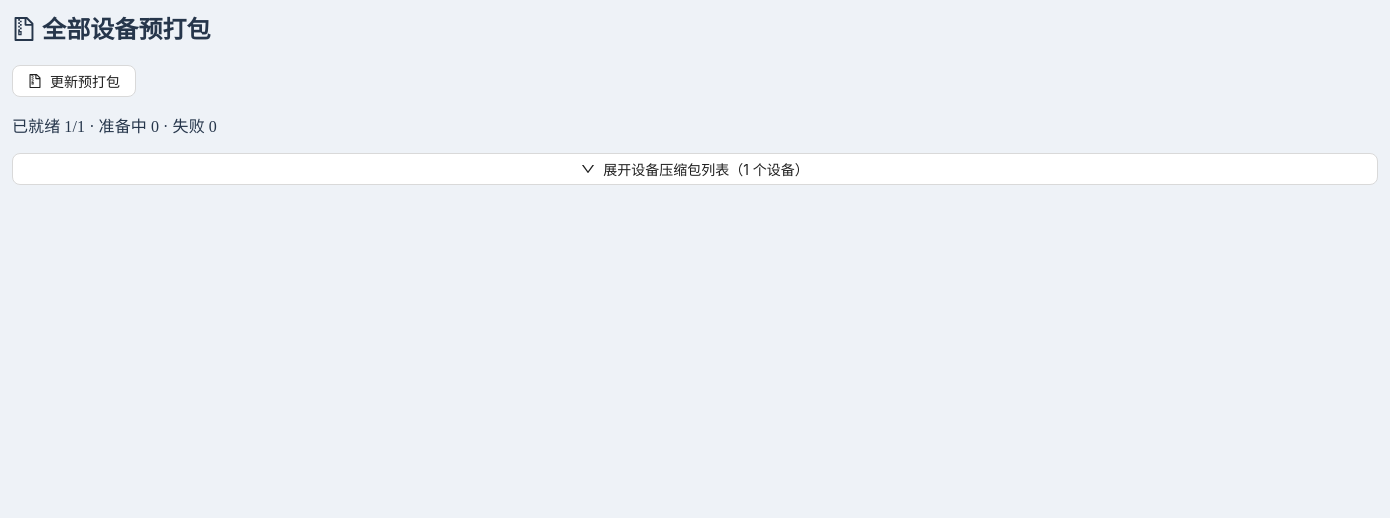
Test: server prepared device packages › reports an expired prepared snapshot without restarting packaging
Click the button "展开设备压缩包列表（1 个设备）" at (695, 169), box [12,153,1378,185]
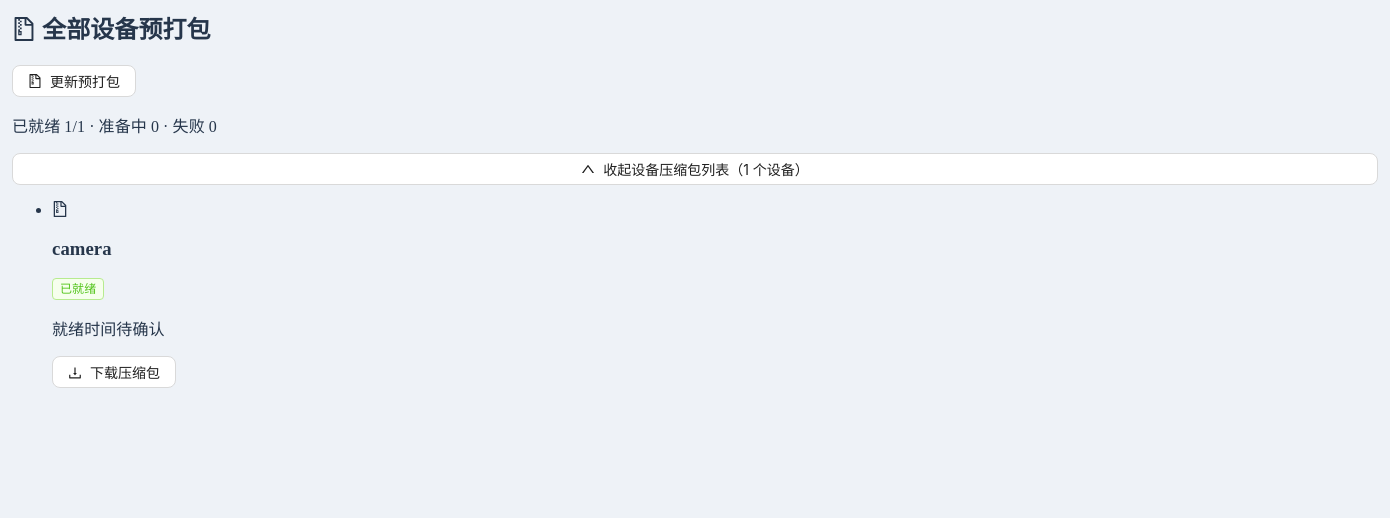
Now the button "收起设备压缩包列表（1 个设备）" is expanded, box [12,153,1378,185]
Click the button with aria-label "下载已就绪压缩包 camera" at (114, 372), box [52,356,176,388]
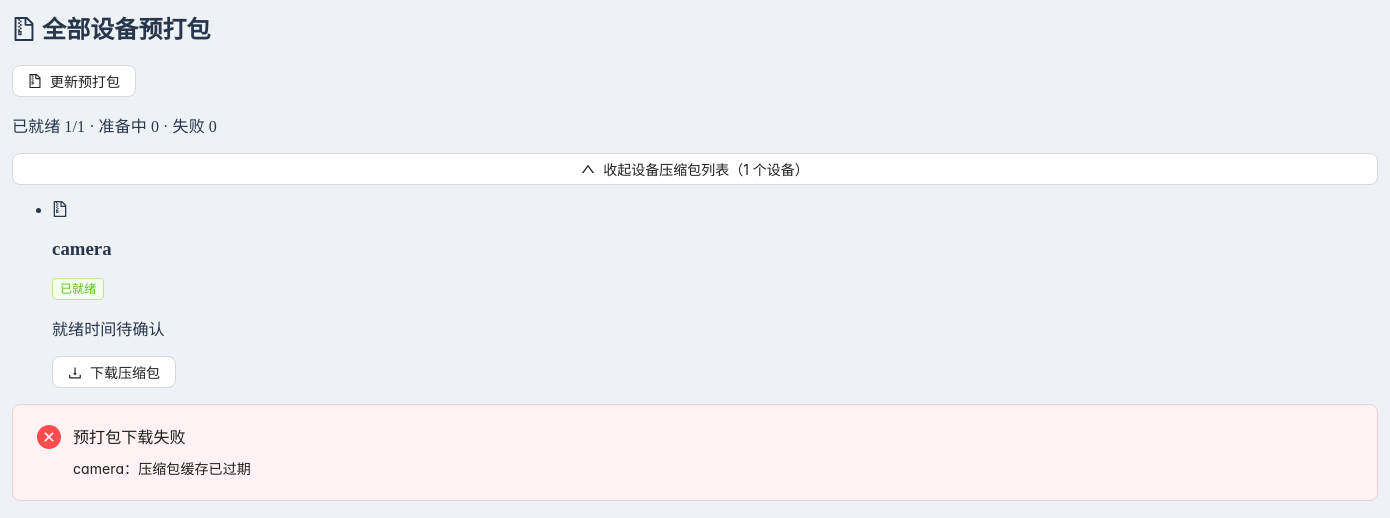
Now the text "camera：压缩包缓存已过期" is shown, box [73,460,251,477]
